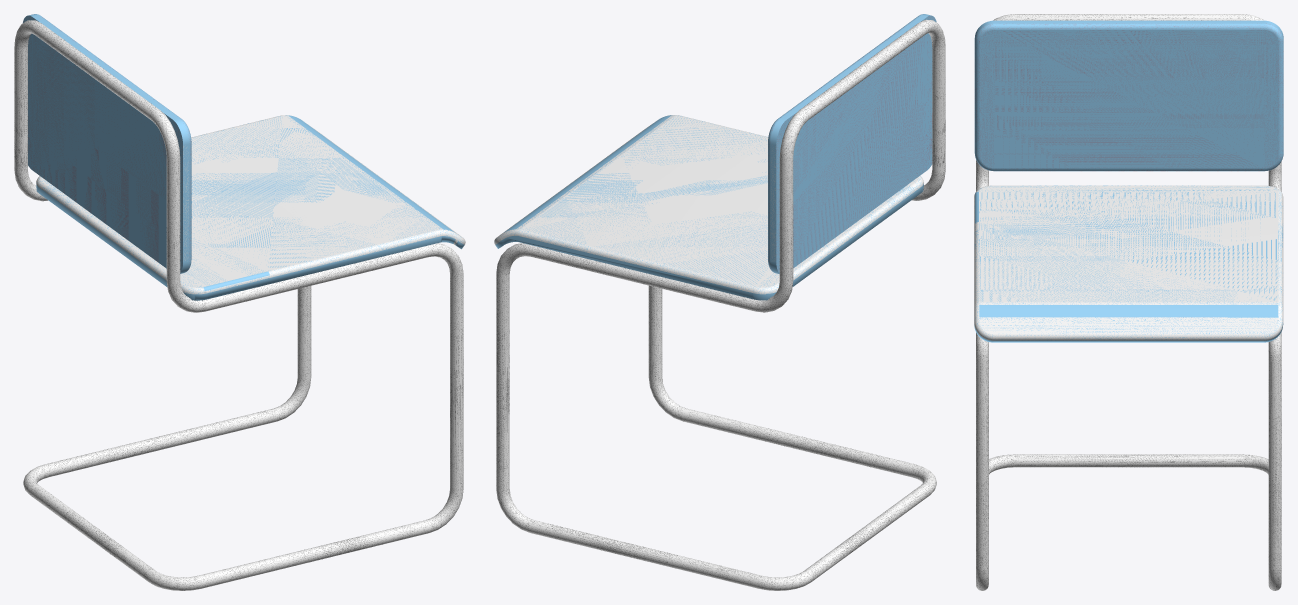
File: other.dae
3 views of the same model, side by side, from view 1: azimuth 30°, elevation 25°; view 2: azimuth 150°, elevation 25°; view 3: azimuth 270°, elevation 25° (orthographic). The views are drawn at different scales.
Parts seen in each view (by area): view 1: Component_1 (×3), Component_2, Component_3 (×2); view 2: Component_1 (×3), Component_2, Component_3 (×2); view 3: Component_1 (×4), Component_3 (×2), Component_2.
Part boxes in pixels (x1,y1,x2,y2): Component_1 (×3): (36, 115, 465, 300); Component_2: (14, 20, 463, 590); Component_3 (×2): (23, 14, 191, 272); Component_1 (×3): (494, 115, 923, 300); Component_2: (496, 19, 945, 590); Component_3 (×2): (768, 14, 936, 272); Component_1 (×4): (974, 185, 1283, 342); Component_3 (×2): (974, 20, 1283, 171); Component_2: (976, 14, 1281, 590).
Size of the model in its own units: 20.41 by 18.73 by 30.31.
